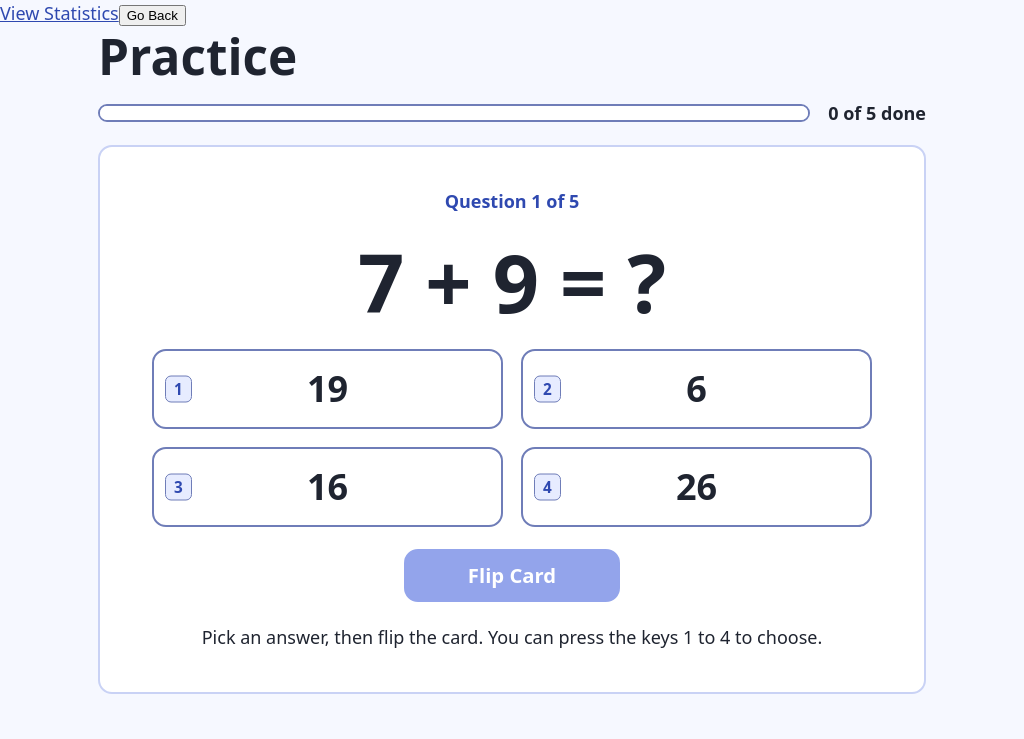
choosing to carry on › does not let the number keys choose answers behind the prompt
The width and height of the screenshot is (1024, 739).
Click the link "View Statistics" at (59, 13), box [0,1,119,25]
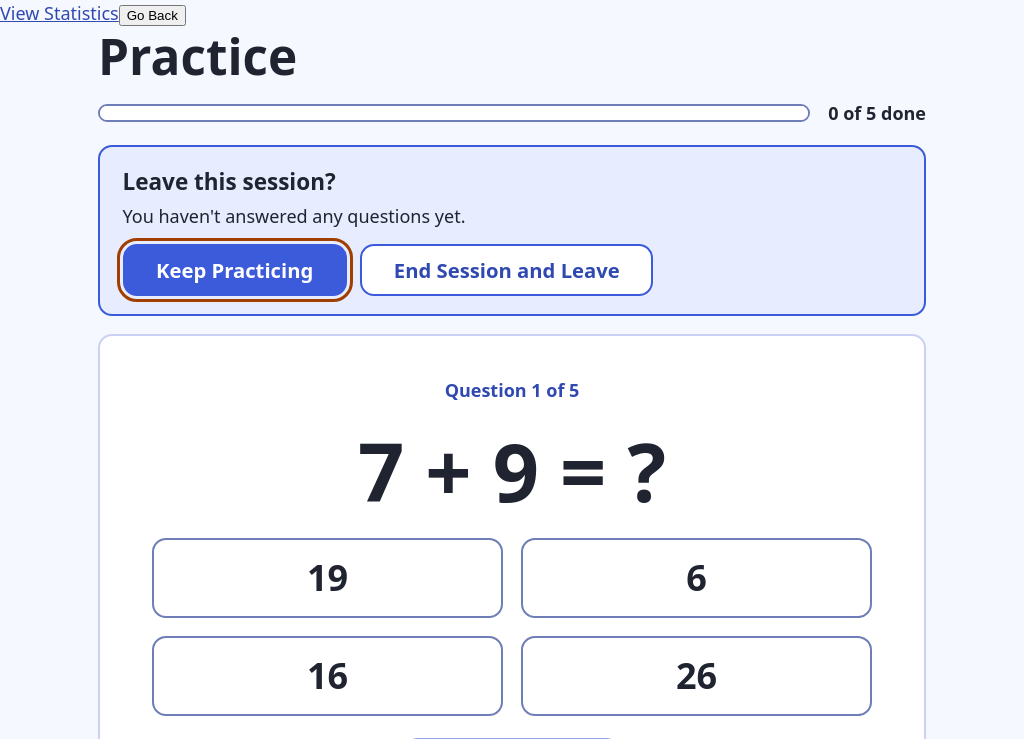
Type keys "1"
Click the button "Keep Practicing" at (235, 270), box [122,244,347,296]
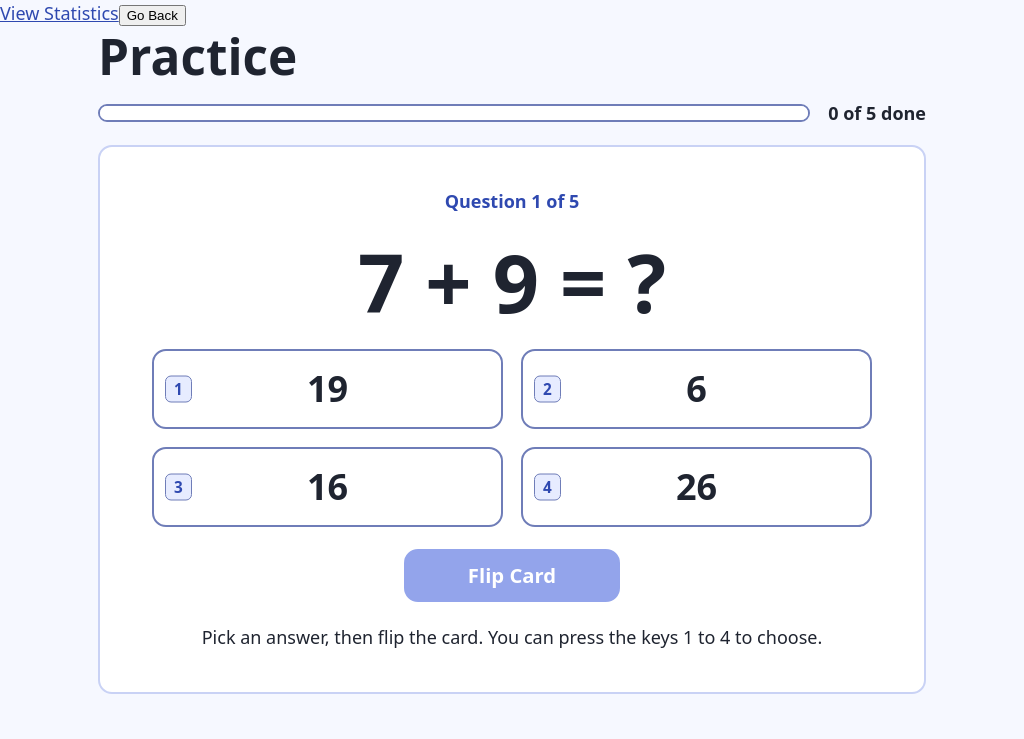
Now no the button "Keep Practicing" are shown
